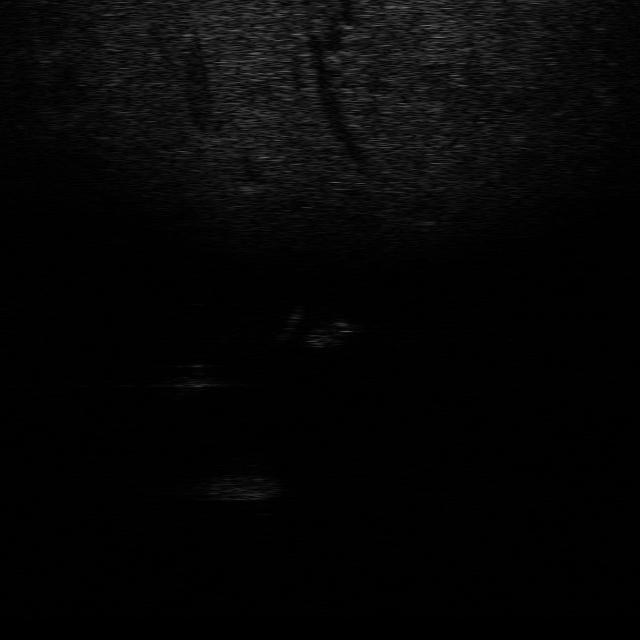ball: (166, 361, 219, 391)
circle cage: (196, 459, 278, 504)
human body: (271, 302, 355, 352)
